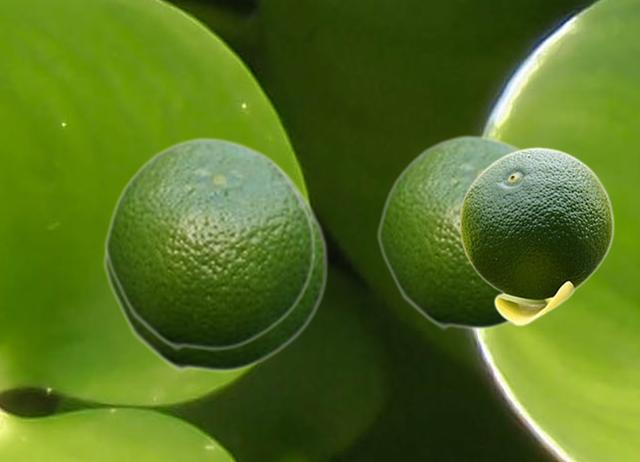calamansi: (102, 156, 328, 372), (103, 135, 315, 350), (376, 133, 525, 329), (459, 147, 613, 325)
